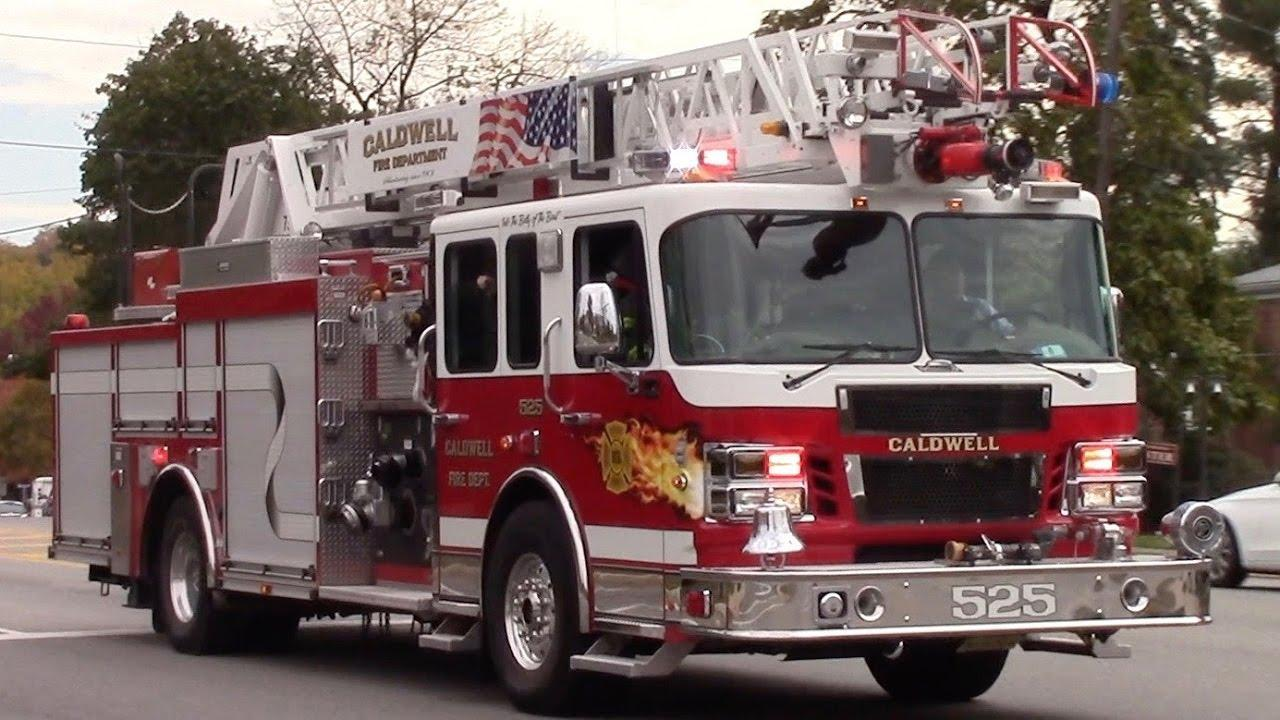Fire-engine: (44, 12, 1222, 714)
